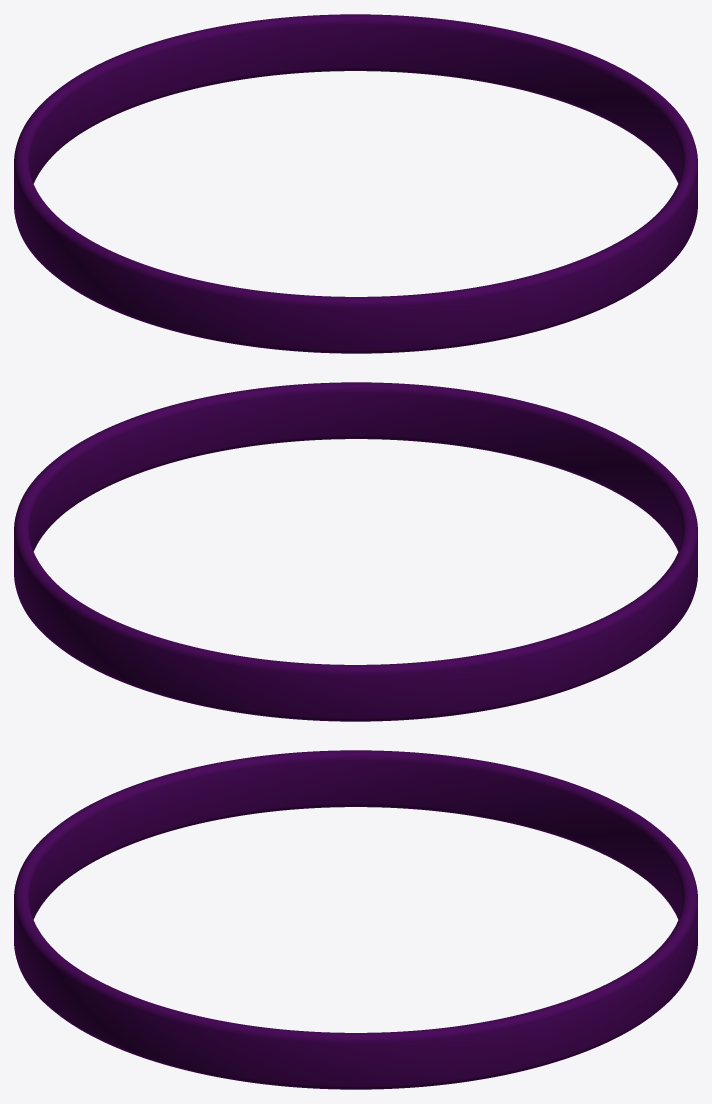
Rendered from tech-ring-a-optimize.glb.
3 views of the same model, one above another, from view 1: azimuth 30°, elevation 25°; view 2: azimuth 150°, elevation 25°; view 3: azimuth 270°, elevation 25° (orthographic).
Parts seen in each view (by area): view 1: BezierCircle.022; view 2: BezierCircle.022; view 3: BezierCircle.022.
Boxes of the visible parts, <box> form: BezierCircle.022: <box>14,14,697,353</box>; BezierCircle.022: <box>14,382,697,721</box>; BezierCircle.022: <box>14,750,697,1089</box>.
Size of the model in its own units: 4.86 by 0.4279 by 4.86.
